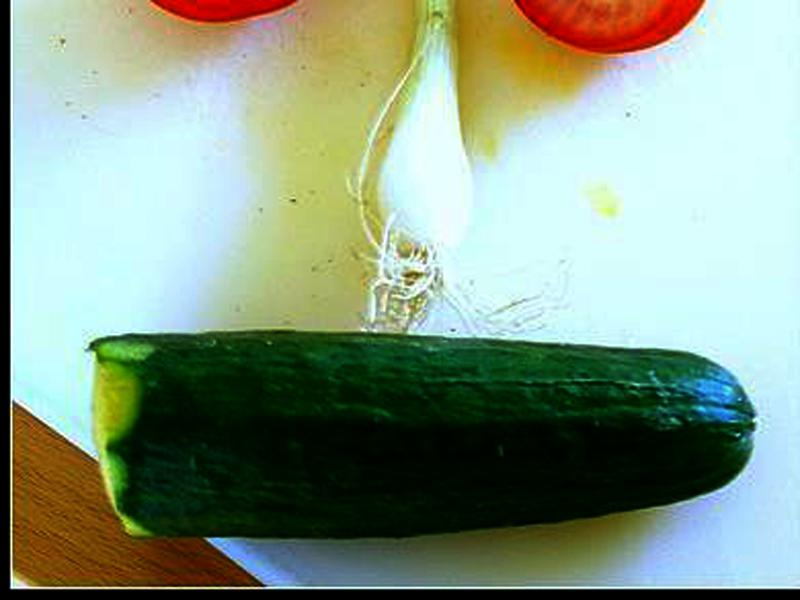Cucumber: (88, 334, 759, 539)
